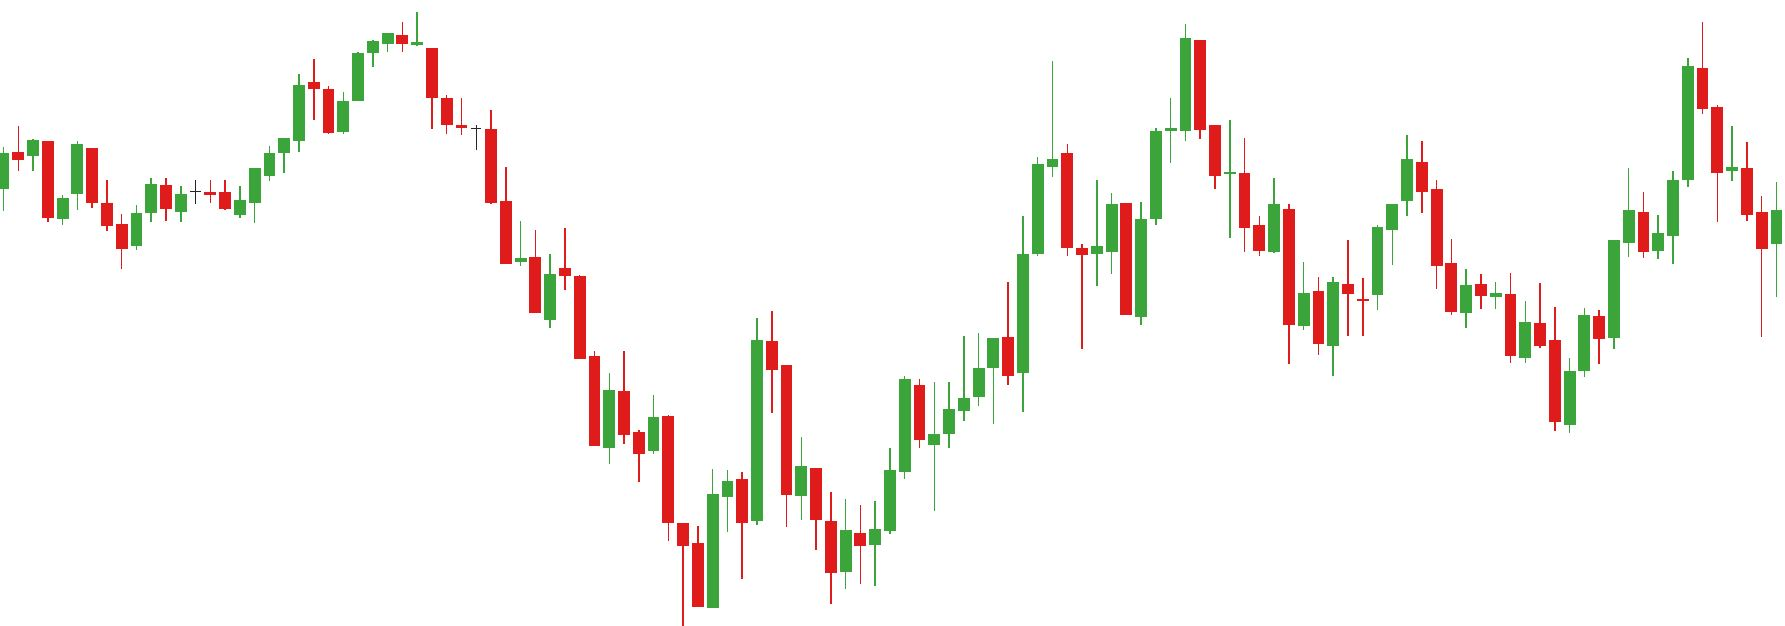buy: (36, 164, 143, 277)
sell: (1044, 20, 1210, 223), (1265, 135, 1431, 286)
